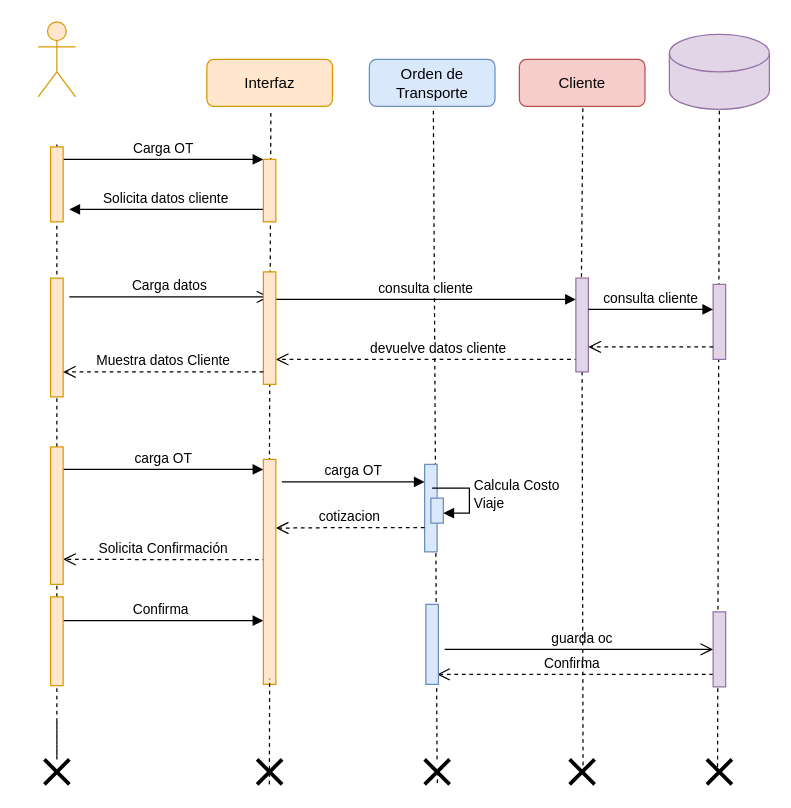
The diagram is 791 pixels wide and 808 high, and some of its shapes have lost their labels. The shapes that lost their labels are listed below. From the top down, each one's box as (x1, y1, x2, y2) in pixels, then its label:
(37, 21, 76, 97): Asesor Comercial
(668, 33, 769, 109): Base de Datos
